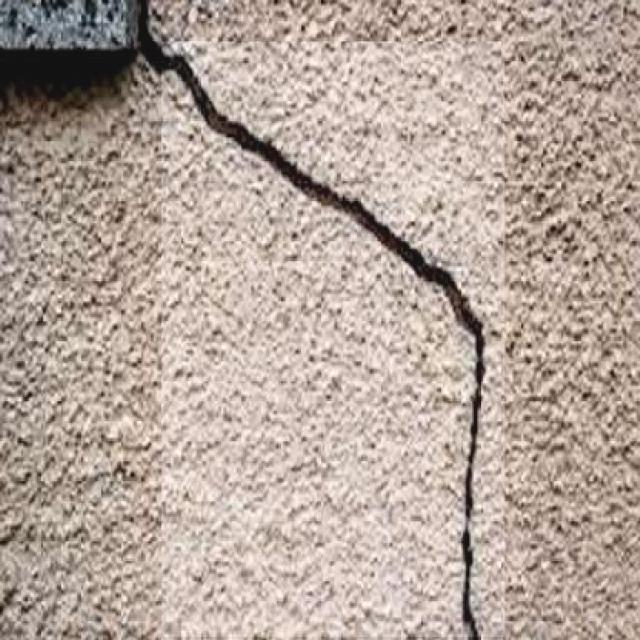crack: (128, 0, 510, 640)
